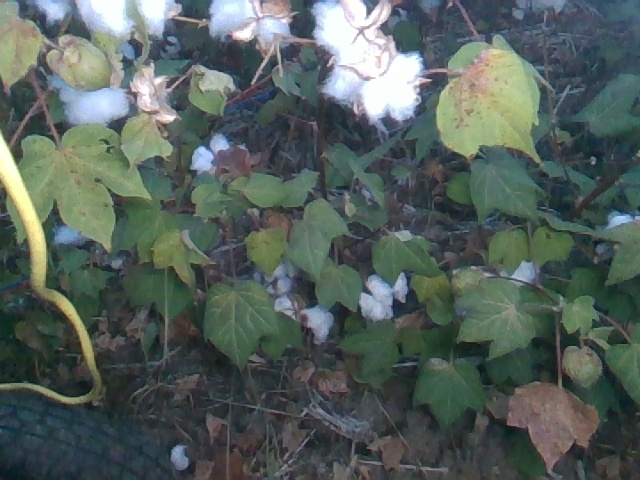cotton: (321, 53, 421, 121), (311, 1, 387, 72), (45, 75, 128, 125), (76, 1, 134, 43), (360, 275, 408, 321), (211, 1, 254, 45), (136, 1, 177, 43), (190, 134, 229, 172), (304, 305, 332, 344), (254, 17, 287, 49), (501, 260, 535, 285), (37, 1, 70, 24), (272, 261, 295, 292), (55, 224, 87, 246), (275, 296, 298, 318), (608, 216, 638, 226)
